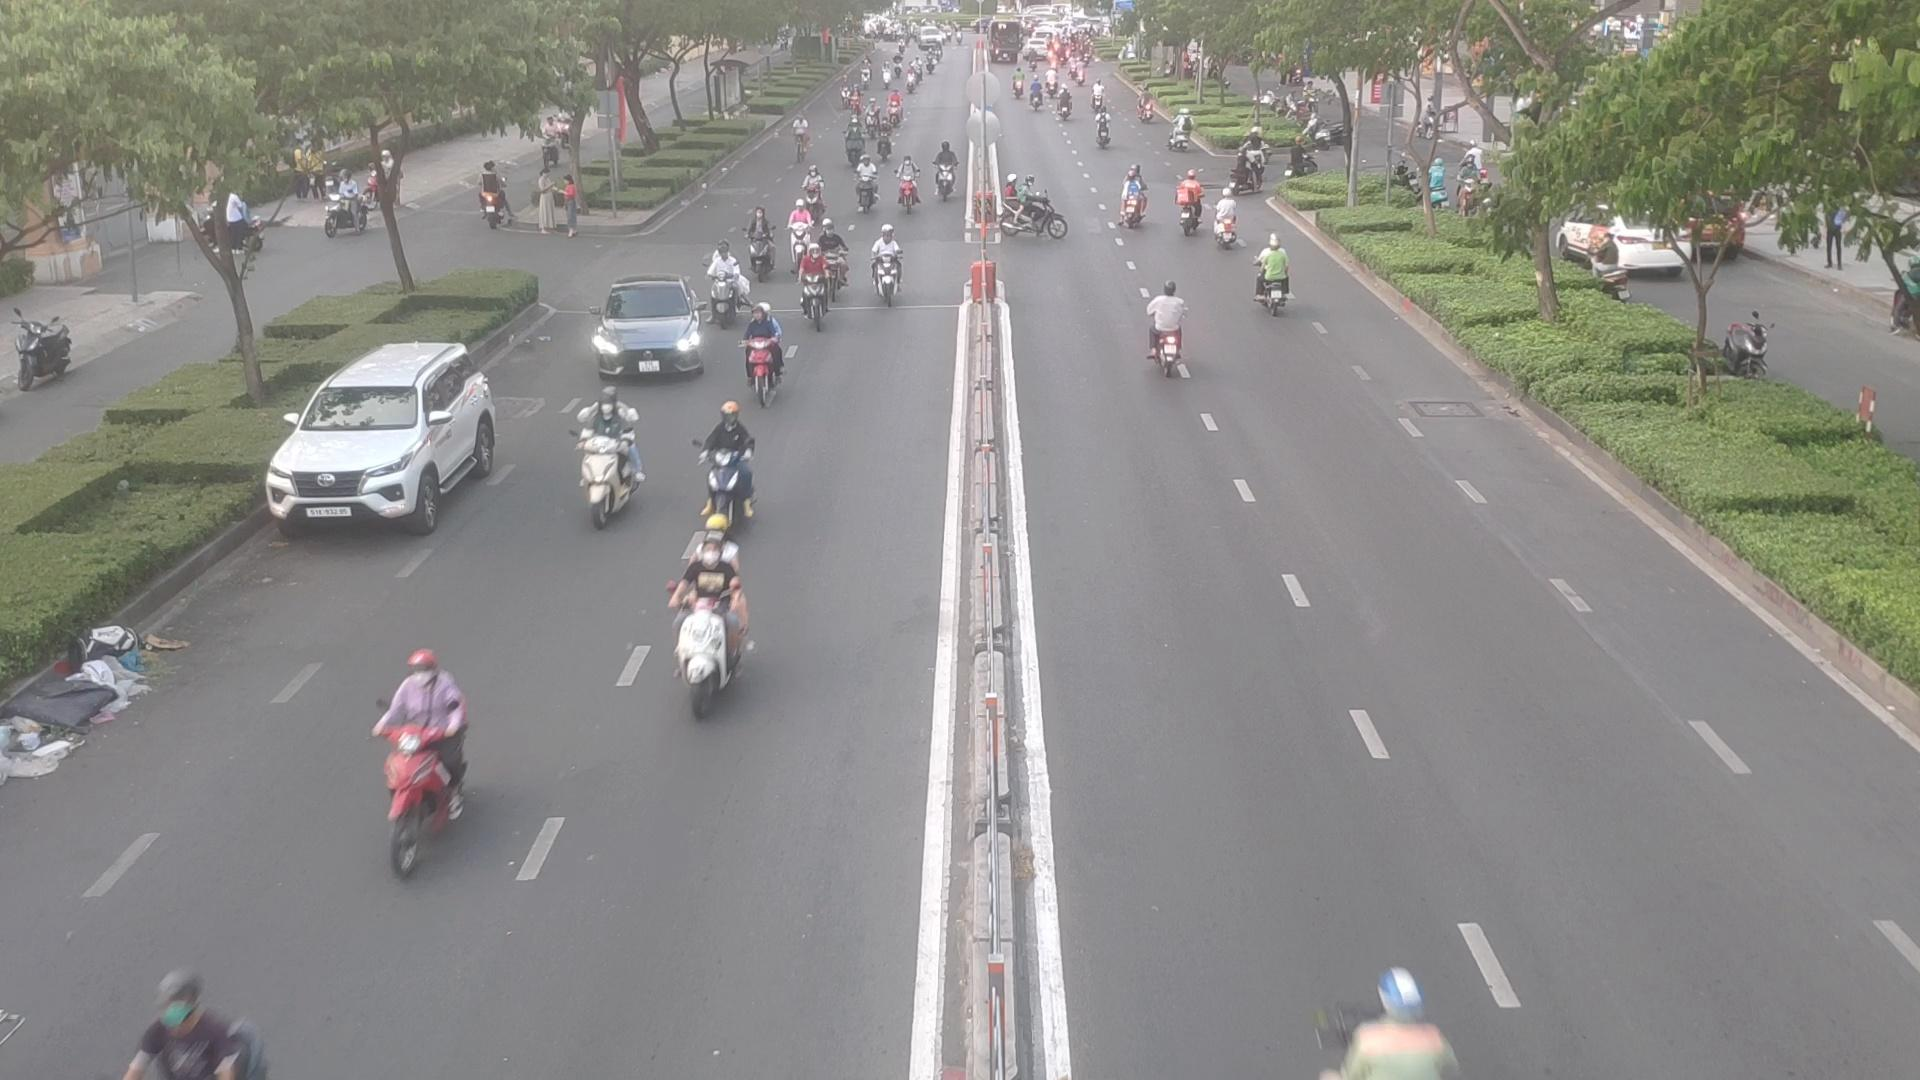car: (269, 344, 512, 533), (585, 280, 709, 382)
motorbike: (363, 649, 477, 870), (1308, 971, 1456, 1080), (112, 975, 266, 1075), (663, 535, 746, 716), (580, 404, 647, 526), (691, 410, 754, 530), (733, 307, 793, 401), (1131, 284, 1189, 376), (997, 178, 1073, 245), (1246, 241, 1299, 315), (862, 229, 909, 305), (702, 255, 752, 323), (808, 225, 851, 291), (742, 215, 777, 277), (1174, 175, 1208, 232), (893, 153, 920, 218), (1121, 173, 1154, 227), (932, 146, 964, 200), (789, 200, 812, 272), (1215, 199, 1246, 251), (843, 119, 864, 167), (803, 166, 823, 218), (876, 117, 895, 164), (856, 156, 873, 208)
